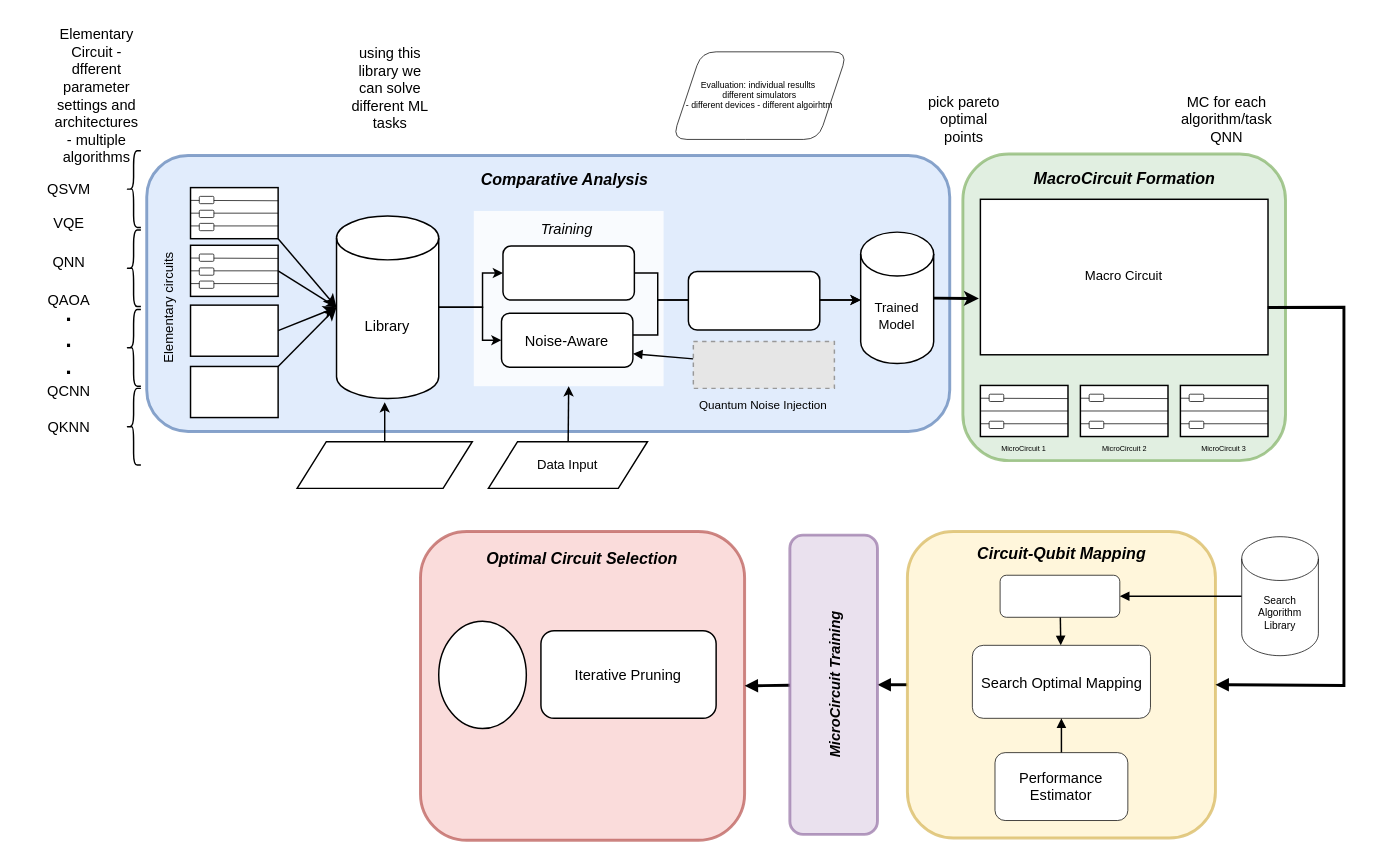
This 1378x866 diagram has some shape labels left out. Grey dashed boxes stand in for pictures. Here are the shapes that lost their labels. From the top down, the centre of each, then its label:
At (x=568, y=272): "Regular".
At (x=753, y=300): "Model Evaluation".
At (x=384, y=464): "Encoding Methods".
At (x=1059, y=595): "Pick Algorithm".
At (x=481, y=674): "Optimal Circuit".
